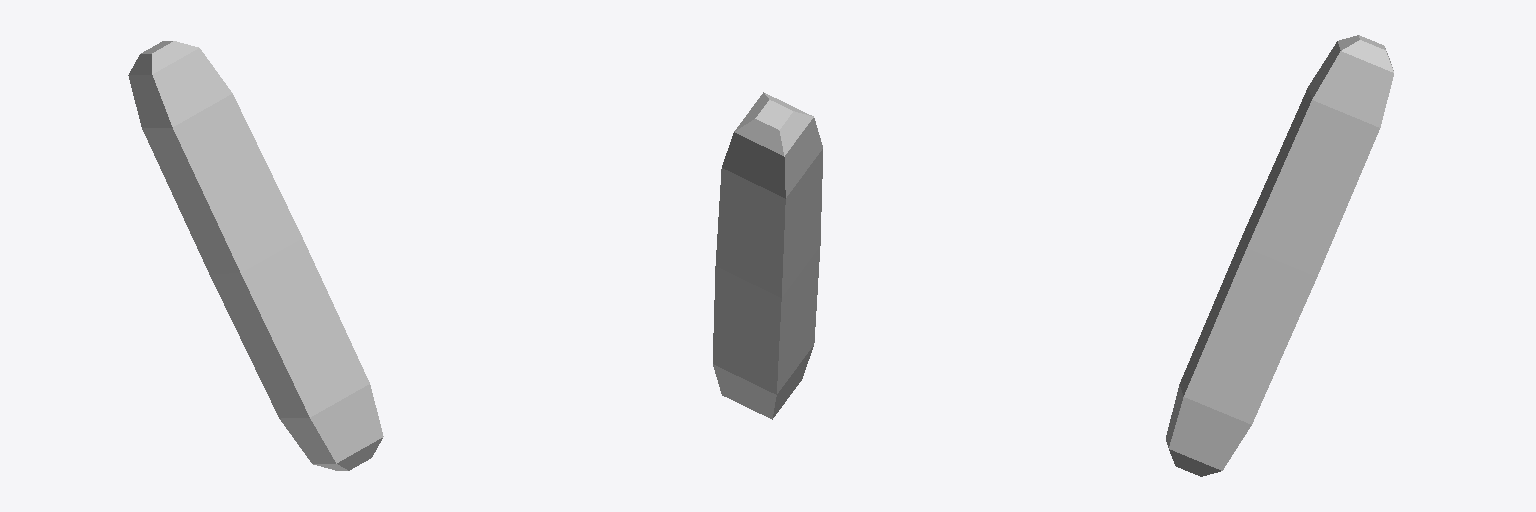
File: left_foot_x_joint.obj
The picture shows the model from 3 angles: view 1: azimuth 30°, elevation 25°; view 2: azimuth 150°, elevation 25°; view 3: azimuth 270°, elevation 25°; orthographic projection.
Visible parts, largest first — view 1: ../rami/model/left_foot_x_joint; view 2: ../rami/model/left_foot_x_joint; view 3: ../rami/model/left_foot_x_joint.
Boxes of the visible parts, box(x1,y1,x2,y2) form: ../rami/model/left_foot_x_joint: box(128, 41, 383, 470); ../rami/model/left_foot_x_joint: box(713, 92, 822, 419); ../rami/model/left_foot_x_joint: box(1166, 35, 1393, 476).
Bounding box in the file's own units: 0.1144 × 0.2861 × 0.1515.